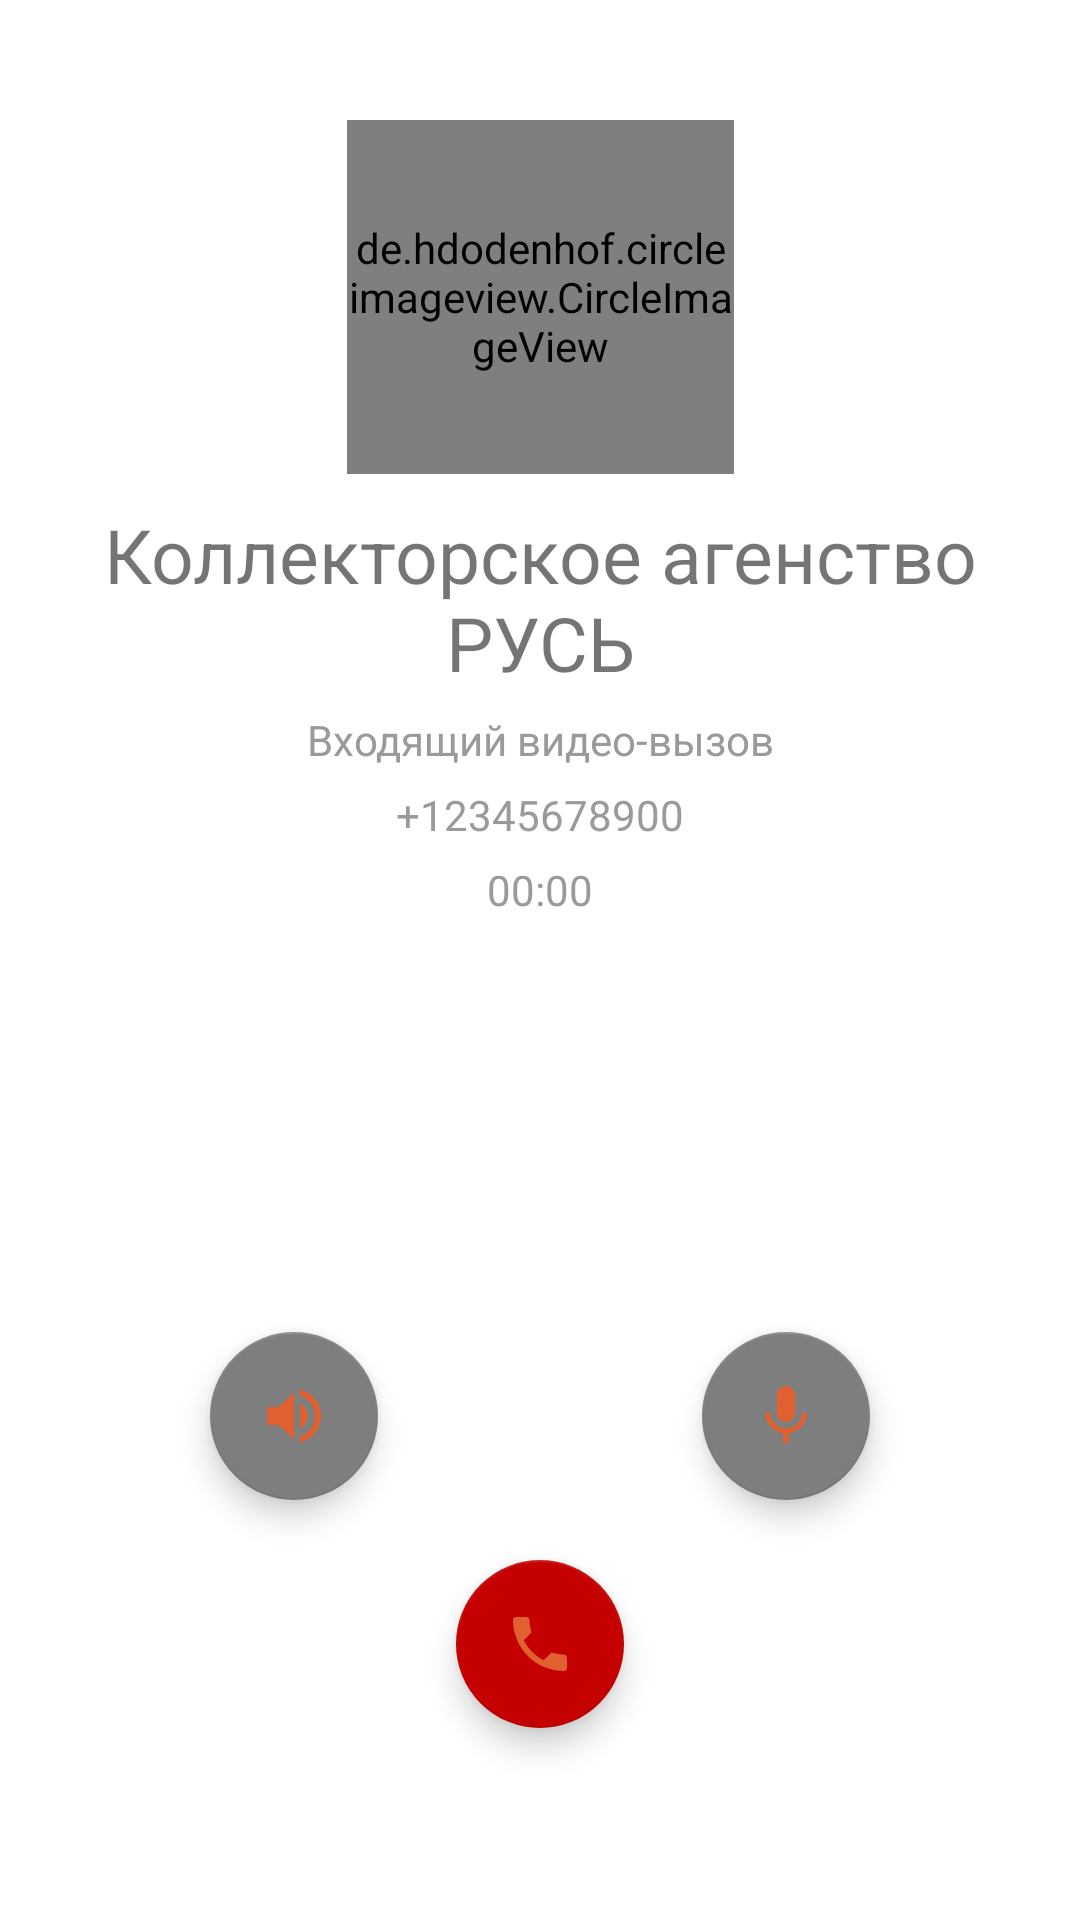

Named icons in this screenshot (1080px×1920px) and their bounding boxes, (left=x1, top=y1, right=x2, bottom=y2):
mic: (left=702, top=1332, right=870, bottom=1500)
phone: (left=456, top=1560, right=624, bottom=1728)
volume: (left=210, top=1332, right=378, bottom=1500)
